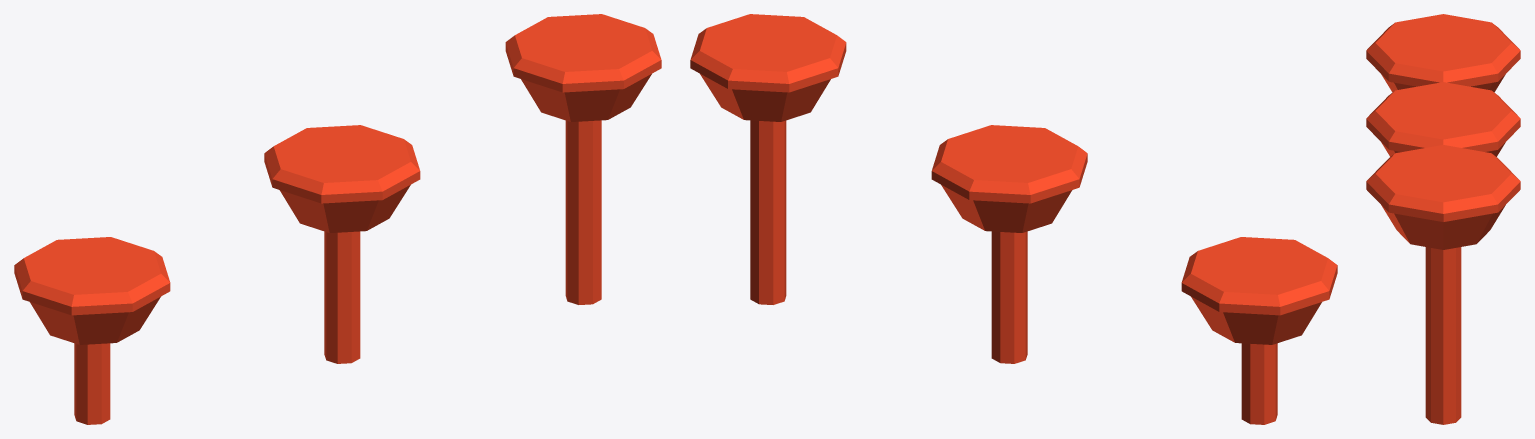
Rendered from SM_Steps_City.fbx.
3 views of the same model, side by side, from view 1: azimuth 30°, elevation 25°; view 2: azimuth 150°, elevation 25°; view 3: azimuth 270°, elevation 25° (orthographic). The views are drawn at different scales.
Visible parts, largest first — view 1: SM_Steps_City; view 2: SM_Steps_City; view 3: SM_Steps_City.
Boxes of the visible parts, x1,y1,x2,y2 form: SM_Steps_City: (14, 14, 661, 424); SM_Steps_City: (690, 14, 1337, 424); SM_Steps_City: (1366, 14, 1520, 424).
Bounding box in the file's own units: 1.81 × 0.6983 × 0.4013.
